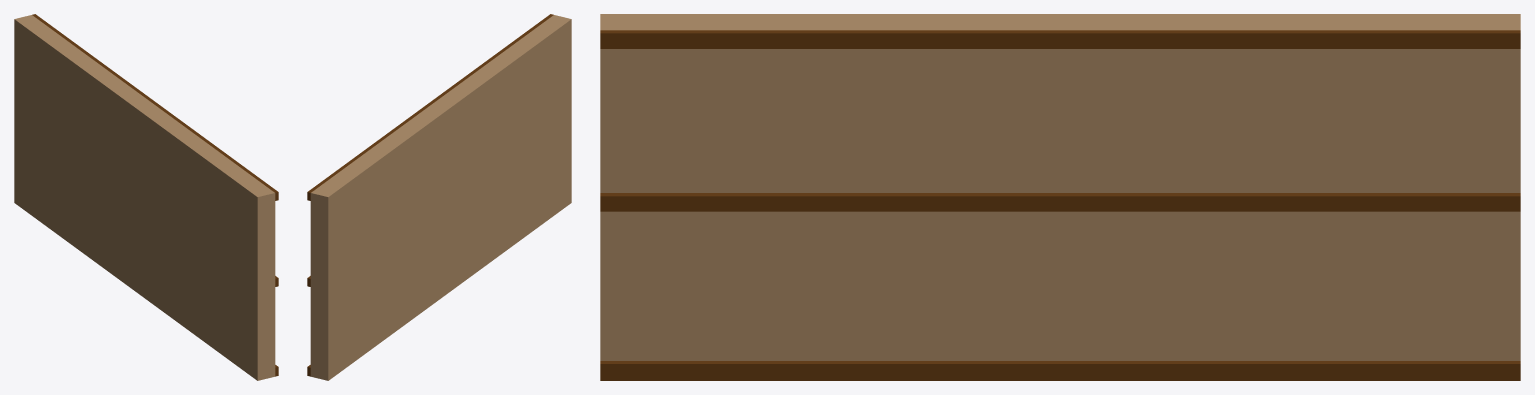
Rendered from diner_wall.glb.
The picture shows the model from 3 angles, left to right: view 1: azimuth 30°, elevation 25°; view 2: azimuth 150°, elevation 25°; view 3: azimuth 270°, elevation 25°; orthographic projection. The views are drawn at different scales.
Visible parts, largest first — view 1: Cube; view 2: Cube; view 3: Cube.
Part boxes in pixels (x1=…): Cube: x1=14, y1=14, x2=278, y2=380; Cube: x1=307, y1=14, x2=571, y2=380; Cube: x1=600, y1=14, x2=1520, y2=380.
Size of the model in its own units: 0.6 by 5 by 12.
